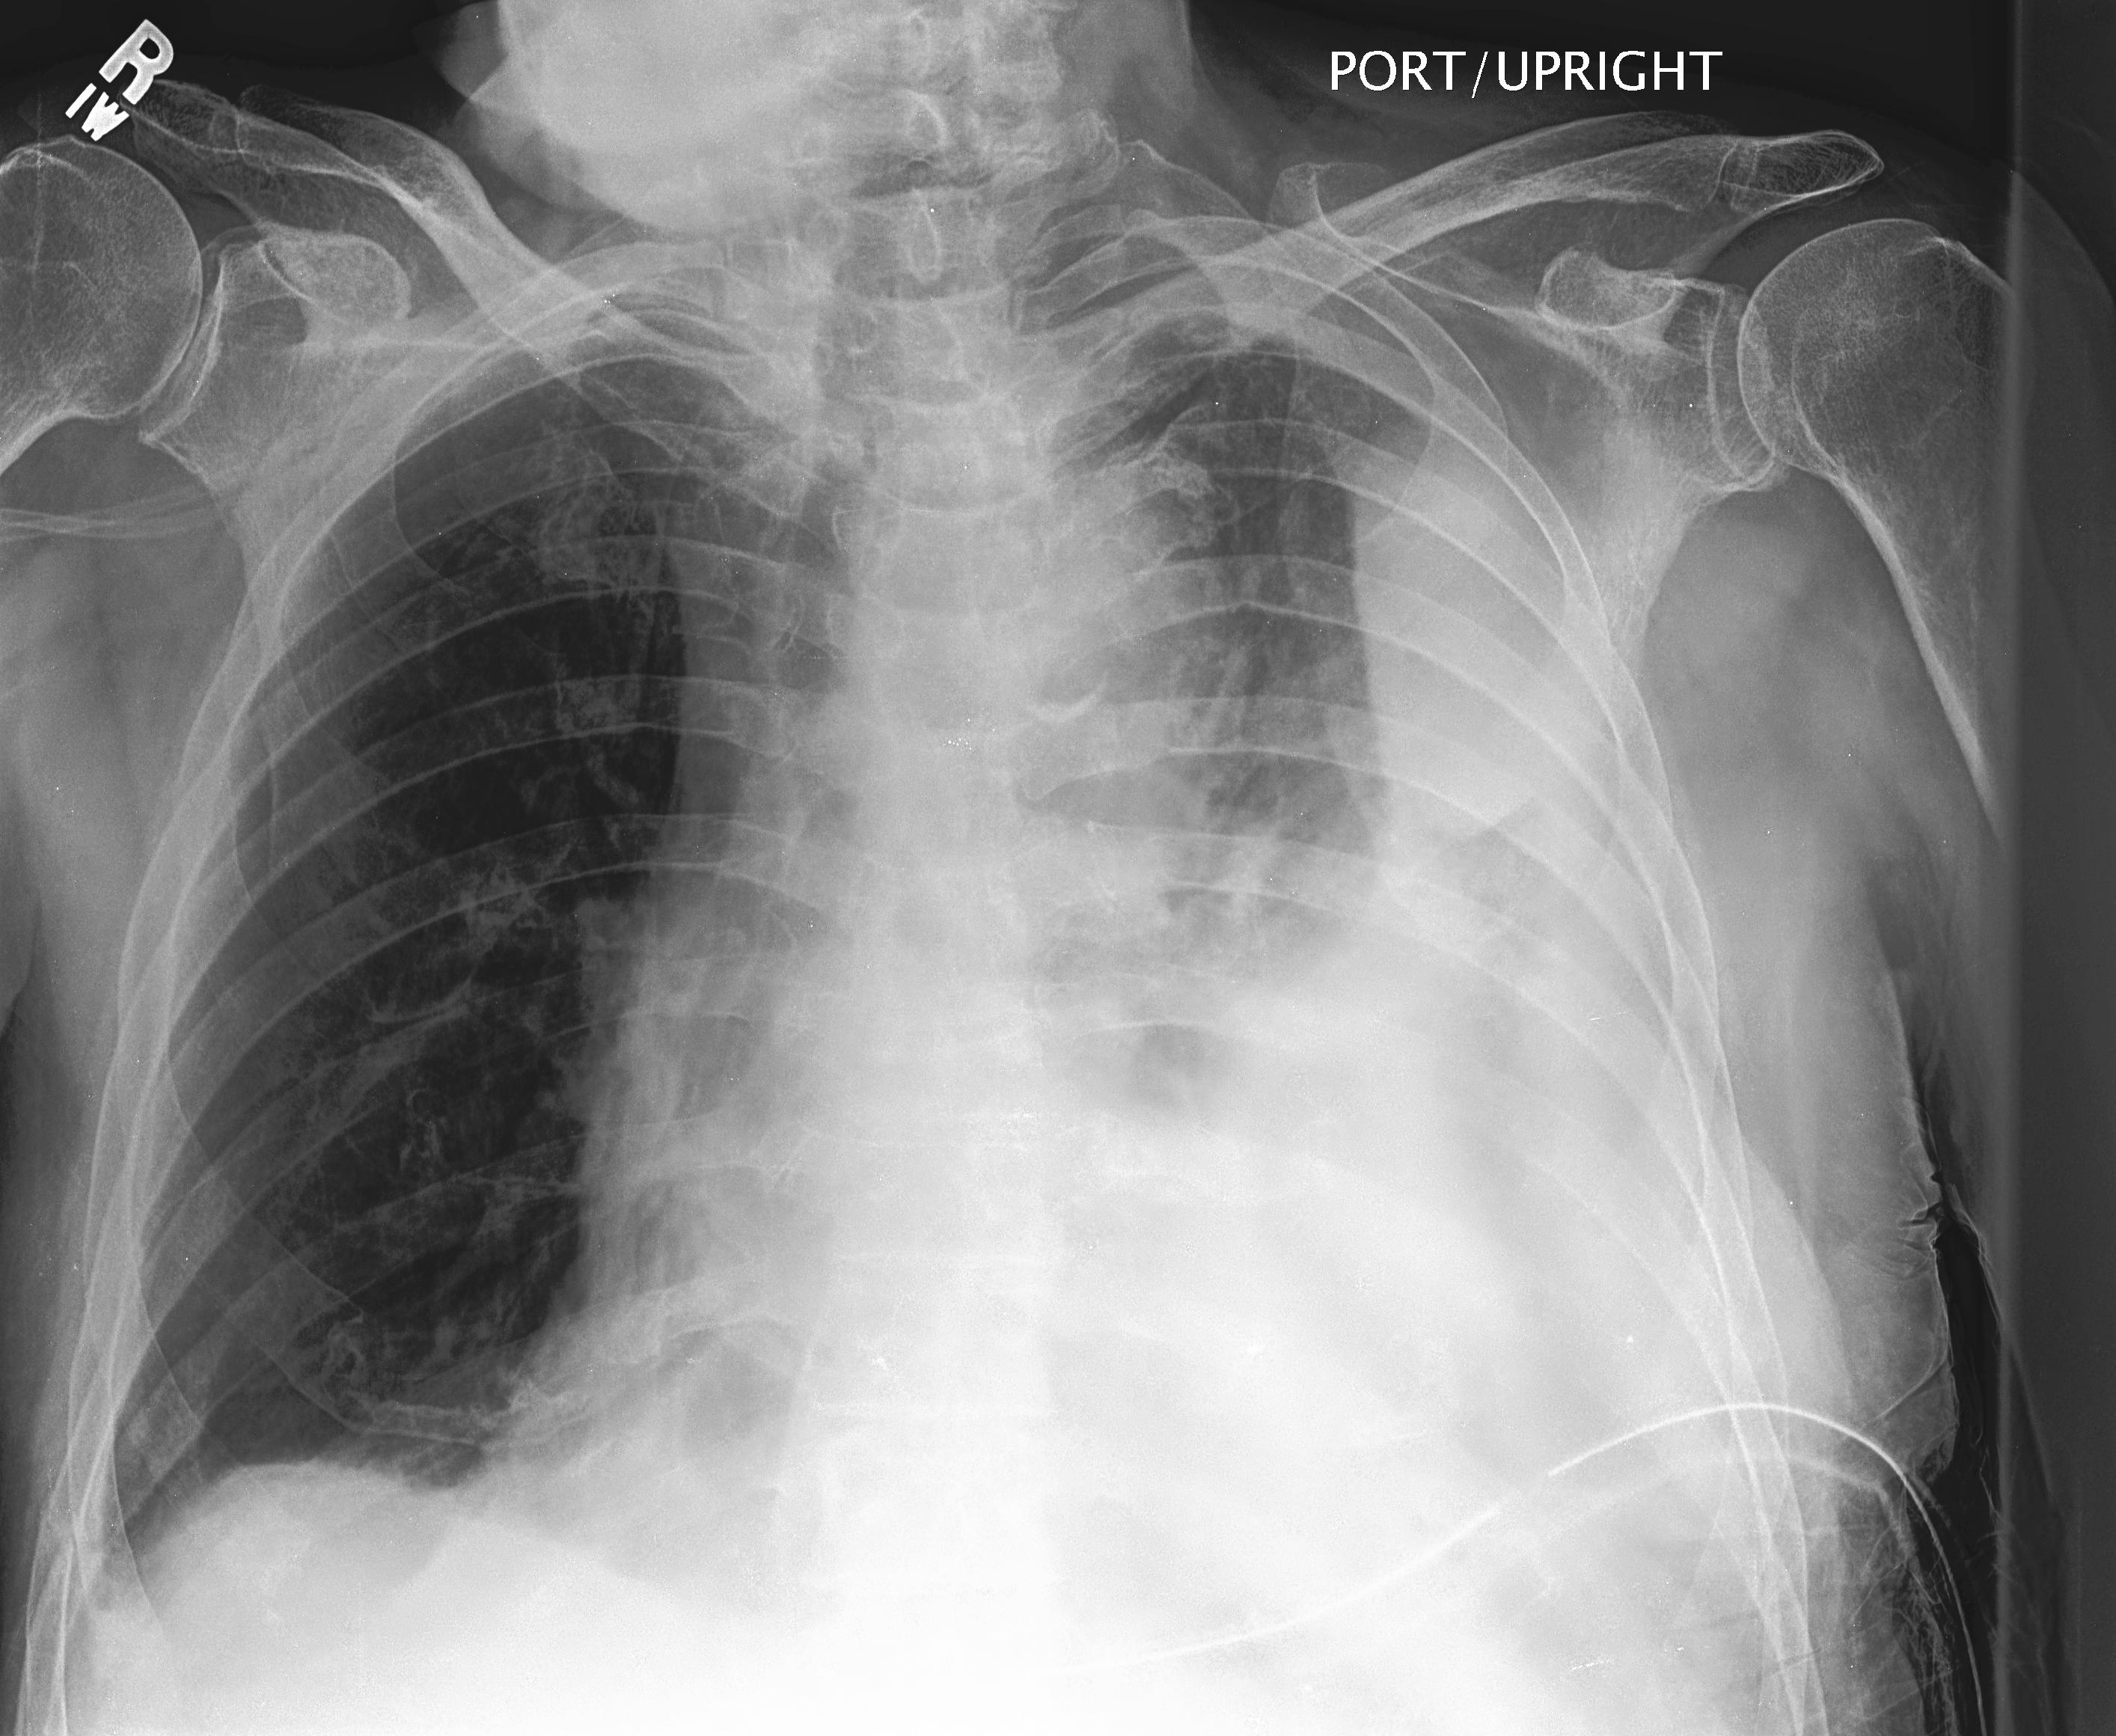Pleural Effusion: (1344, 525, 1710, 1574)
